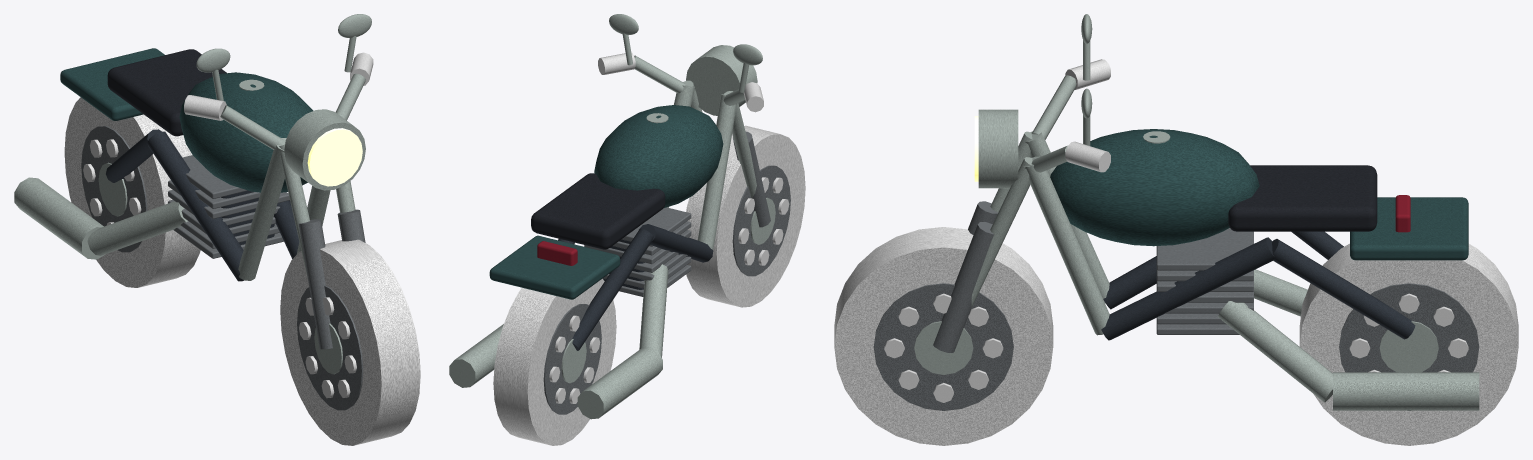
The model's file is motorcycle.glb.
3 renders of one model, left to right at view 1: azimuth 30°, elevation 25°; view 2: azimuth 150°, elevation 25°; view 3: azimuth 270°, elevation 25°, orthographic. The views are drawn at different scales.
Parts seen in each view (by area): view 1: street-chopper, saddle, engine-fin (×7), rear-fender, engine; view 2: street-chopper, saddle, rear-fender, engine-fin (×4), rear-light; view 3: street-chopper, saddle, rear-fender, engine-fin (×3).
Part boxes in pixels (x1=…): street-chopper: x1=14, y1=14, x2=420, y2=445; saddle: x1=107, y1=49, x2=226, y2=136; engine-fin (×7): x1=168, y1=155, x2=289, y2=258; rear-fender: x1=60, y1=48, x2=164, y2=120; engine: x1=221, y1=190, x2=274, y2=245; street-chopper: x1=449, y1=14, x2=805, y2=445; saddle: x1=531, y1=173, x2=665, y2=249; rear-fender: x1=489, y1=235, x2=620, y2=299; engine-fin (×4): x1=584, y1=207, x2=691, y2=296; rear-light: x1=537, y1=241, x2=577, y2=265; street-chopper: x1=834, y1=14, x2=1518, y2=445; saddle: x1=1228, y1=165, x2=1377, y2=231; rear-fender: x1=1350, y1=197, x2=1468, y2=260; engine-fin (×3): x1=1156, y1=228, x2=1253, y2=334.
Bounding box in the file's own units: 0.7754 × 1.38 × 2.25.
Materials: 9 (8 with a texture image).
